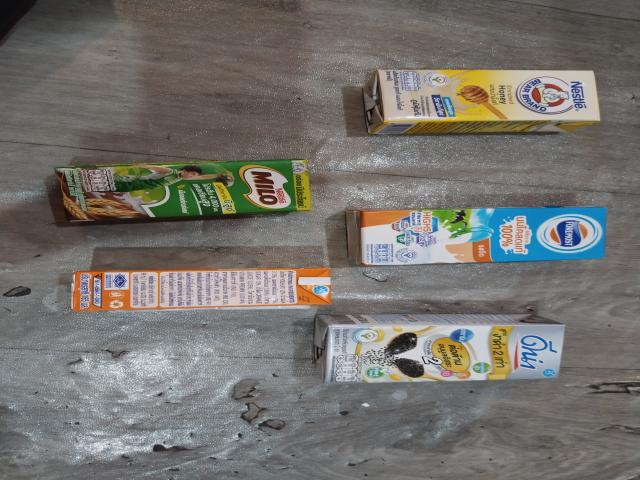drink_box: (310, 319, 579, 385), (73, 257, 341, 323), (46, 160, 314, 225), (341, 206, 612, 269), (367, 66, 607, 137)
